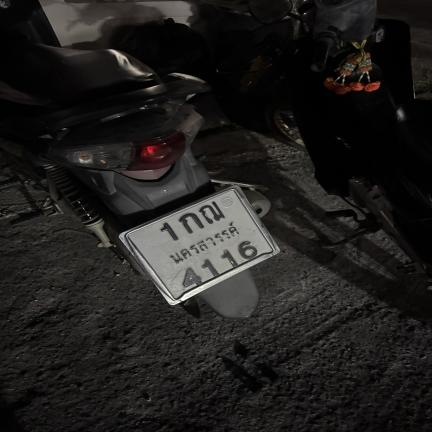1: (154, 219, 182, 246), (217, 248, 243, 271), (197, 258, 222, 279)
4: (176, 264, 207, 292)
6: (233, 238, 261, 263)
A01: (173, 208, 206, 237)
A12: (195, 199, 229, 227)
NSN: (164, 219, 244, 267)
